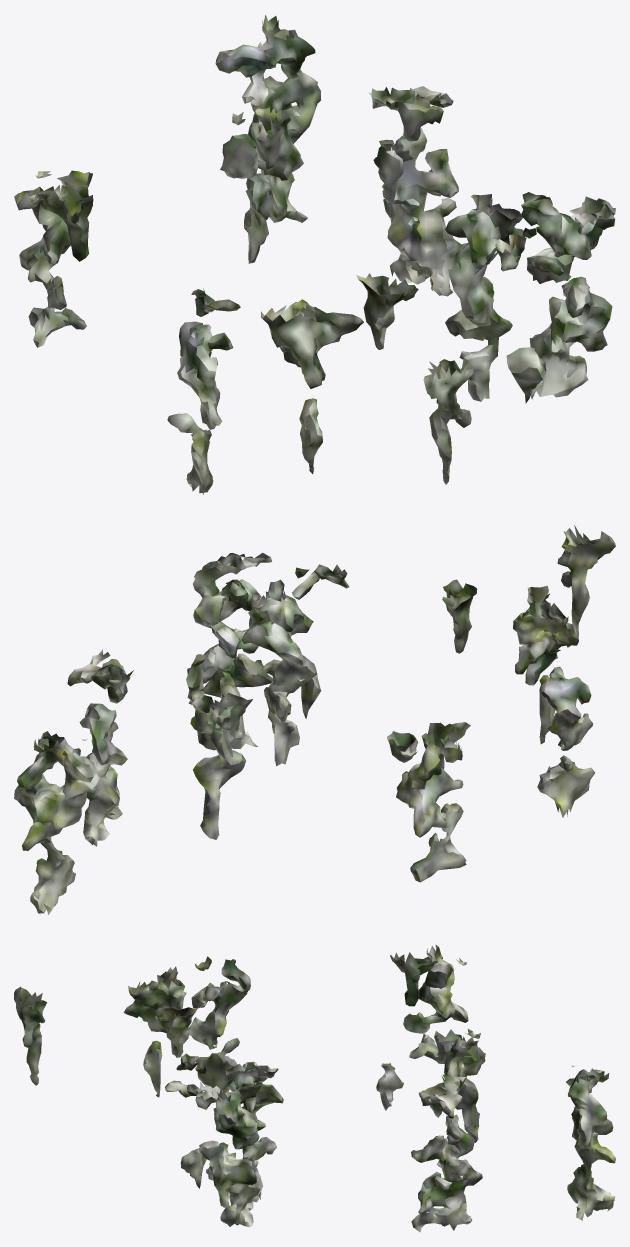
Rendered from F3D_12_HangingVines.fbx.
The picture shows the model from 3 angles, top to bottom: view 1: azimuth 30°, elevation 25°; view 2: azimuth 150°, elevation 25°; view 3: azimuth 270°, elevation 25°; orthographic projection. The views are drawn at different scales.
Parts seen in each view (by area): view 1: F3D_12_HangingVines; view 2: F3D_12_HangingVines; view 3: F3D_12_HangingVines.
Boxes of the visible parts, box(x1,y1,x2,y2) form: F3D_12_HangingVines: box(14, 15, 615, 494); F3D_12_HangingVines: box(14, 525, 615, 914); F3D_12_HangingVines: box(14, 944, 615, 1232).
Size of the model in its own units: 2.3 by 1 by 3.68.
